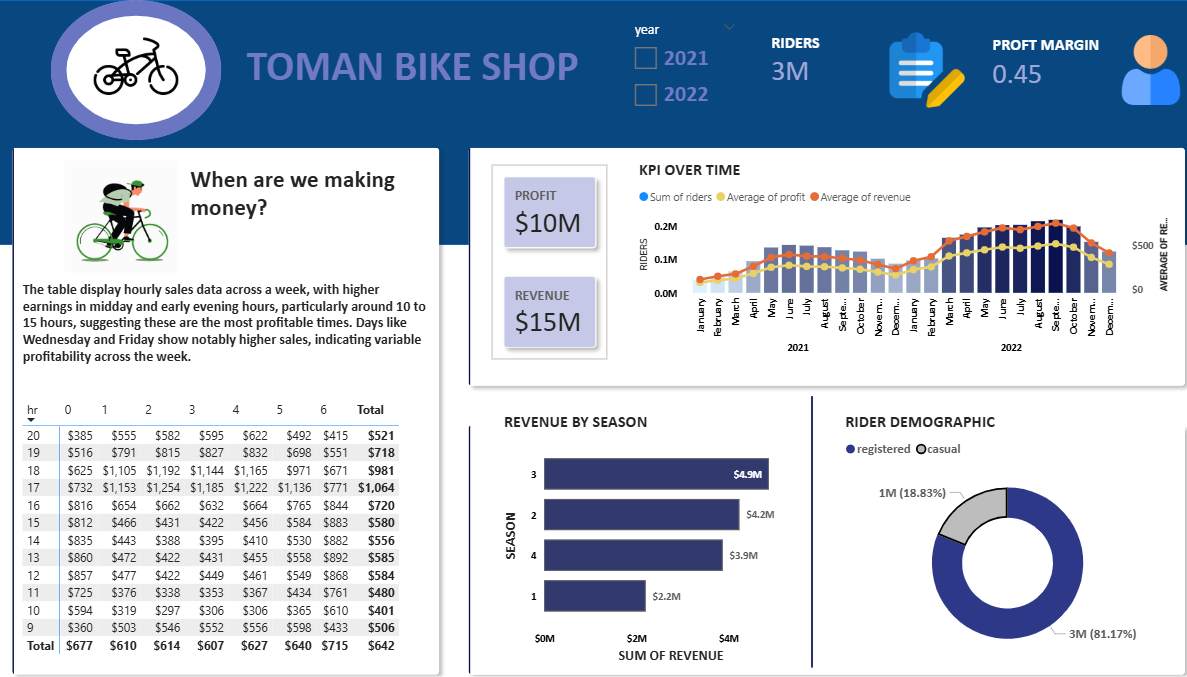

The dashboard page shown, as its layout file describes it:
{"tool":"powerbi","page":{"name":"Page 1","canvas":[1400,800],"ordinal":0},"visuals":[{"type":"shape","box":[10,0,1390,280],"z":0},{"type":"cardVisual","fields":{"Data":["Min(Query1.riders)"]},"box":[0,140,546.7,660],"z":1000},{"type":"cardVisual","fields":{"Data":["Min(Query1.riders)"]},"box":[0,25,306.7,315],"z":2000},{"type":"cardVisual","fields":{"Data":["Sum(Query1.riders)"]},"box":[521.7,140,878.3,330],"z":3000},{"type":"pivotTable","fields":{"Rows":["Query1.hr"],"Values":["Avg(Query1.revenue)"],"Columns":["Query1.weekday"]},"box":[35,453.3,475,310],"z":4000},{"type":"textbox","box":[226.7,183.3,250,116.7],"z":5000},{"type":"textbox","box":[35,315,473.3,128.3],"z":6000},{"type":"lineClusteredColumnComboChart","title":"KPI OVER TIME","fields":{"Y":["Sum(Query1.riders)"],"Category":["Query1.dteday.Variation.Date Hierarchy.Year","Query1.dteday.Variation.Date Hierarchy.Month"],"Y2":["Avg(Query1.profit)","Avg(Query1.revenue)"]},"box":[740,183.3,616.7,235],"z":7000},{"type":"cardVisual","fields":{"Data":["Sum(Query1.riders)"]},"box":[521.7,456.7,878.3,343.3],"z":8000},{"type":"clusteredBarChart","title":"REVENUE BY SEASON","fields":{"Category":["Query1.season"],"Y":["Sum(Query1.revenue)"]},"box":[585,470,358.3,293.3],"z":9000},{"type":"donutChart","title":"RIDER DEMOGRAPHIC","fields":{"Y":["Sum(Query1.riders)"],"Category":["Query1.rider_type"]},"box":[975,470,381.7,293.3],"z":10000},{"type":"shape","box":[793.3,453.3,300,310],"z":11000},{"type":"cardVisual","fields":{"Data":["Sum(Query1.profit)","Sum(Query1.revenue)"]},"box":[560,171.7,166.7,256.7],"z":12000},{"type":"cardVisual","fields":{"Data":["Sum(Query1.riders)","Query1.Profit margin"]},"box":[866.7,0,533.3,160],"z":13000},{"type":"shape","box":[73.3,0,195,160],"z":14000},{"type":"image","box":[85,25,171.7,100],"z":15000},{"type":"textbox","box":[291.7,41.7,408.3,98.3],"z":16000},{"type":"slicer","fields":{"Values":["Query1.year"]},"box":[726.7,18.3,140,125],"z":17000}]}

Visuals, with their boxes in screenshot pixels (x1, y1, x2, y2), scaled from the page's 1400x800 canvas onto the 1187x677 screenshot:
shape: bbox(8, 0, 1186, 237)
cardVisual - Min(Query1.riders): bbox(0, 118, 464, 676)
cardVisual - Min(Query1.riders): bbox(0, 21, 260, 288)
cardVisual - Sum(Query1.riders): bbox(442, 118, 1186, 398)
pivotTable - Query1.hr x Avg(Query1.revenue): bbox(30, 384, 432, 646)
textbox: bbox(192, 155, 404, 254)
textbox: bbox(30, 267, 431, 375)
"KPI OVER TIME" lineClusteredColumnComboChart: bbox(627, 155, 1150, 354)
cardVisual - Sum(Query1.riders): bbox(442, 386, 1186, 676)
"REVENUE BY SEASON" clusteredBarChart: bbox(496, 398, 800, 646)
"RIDER DEMOGRAPHIC" donutChart: bbox(827, 398, 1150, 646)
shape: bbox(673, 384, 927, 646)
cardVisual - Sum(Query1.profit) x Sum(Query1.revenue): bbox(475, 145, 616, 363)
cardVisual - Sum(Query1.riders) x Query1.Profit margin: bbox(735, 0, 1186, 135)
shape: bbox(62, 0, 227, 135)
image: bbox(72, 21, 218, 106)
textbox: bbox(247, 35, 594, 118)
slicer - Query1.year: bbox(616, 15, 735, 121)
